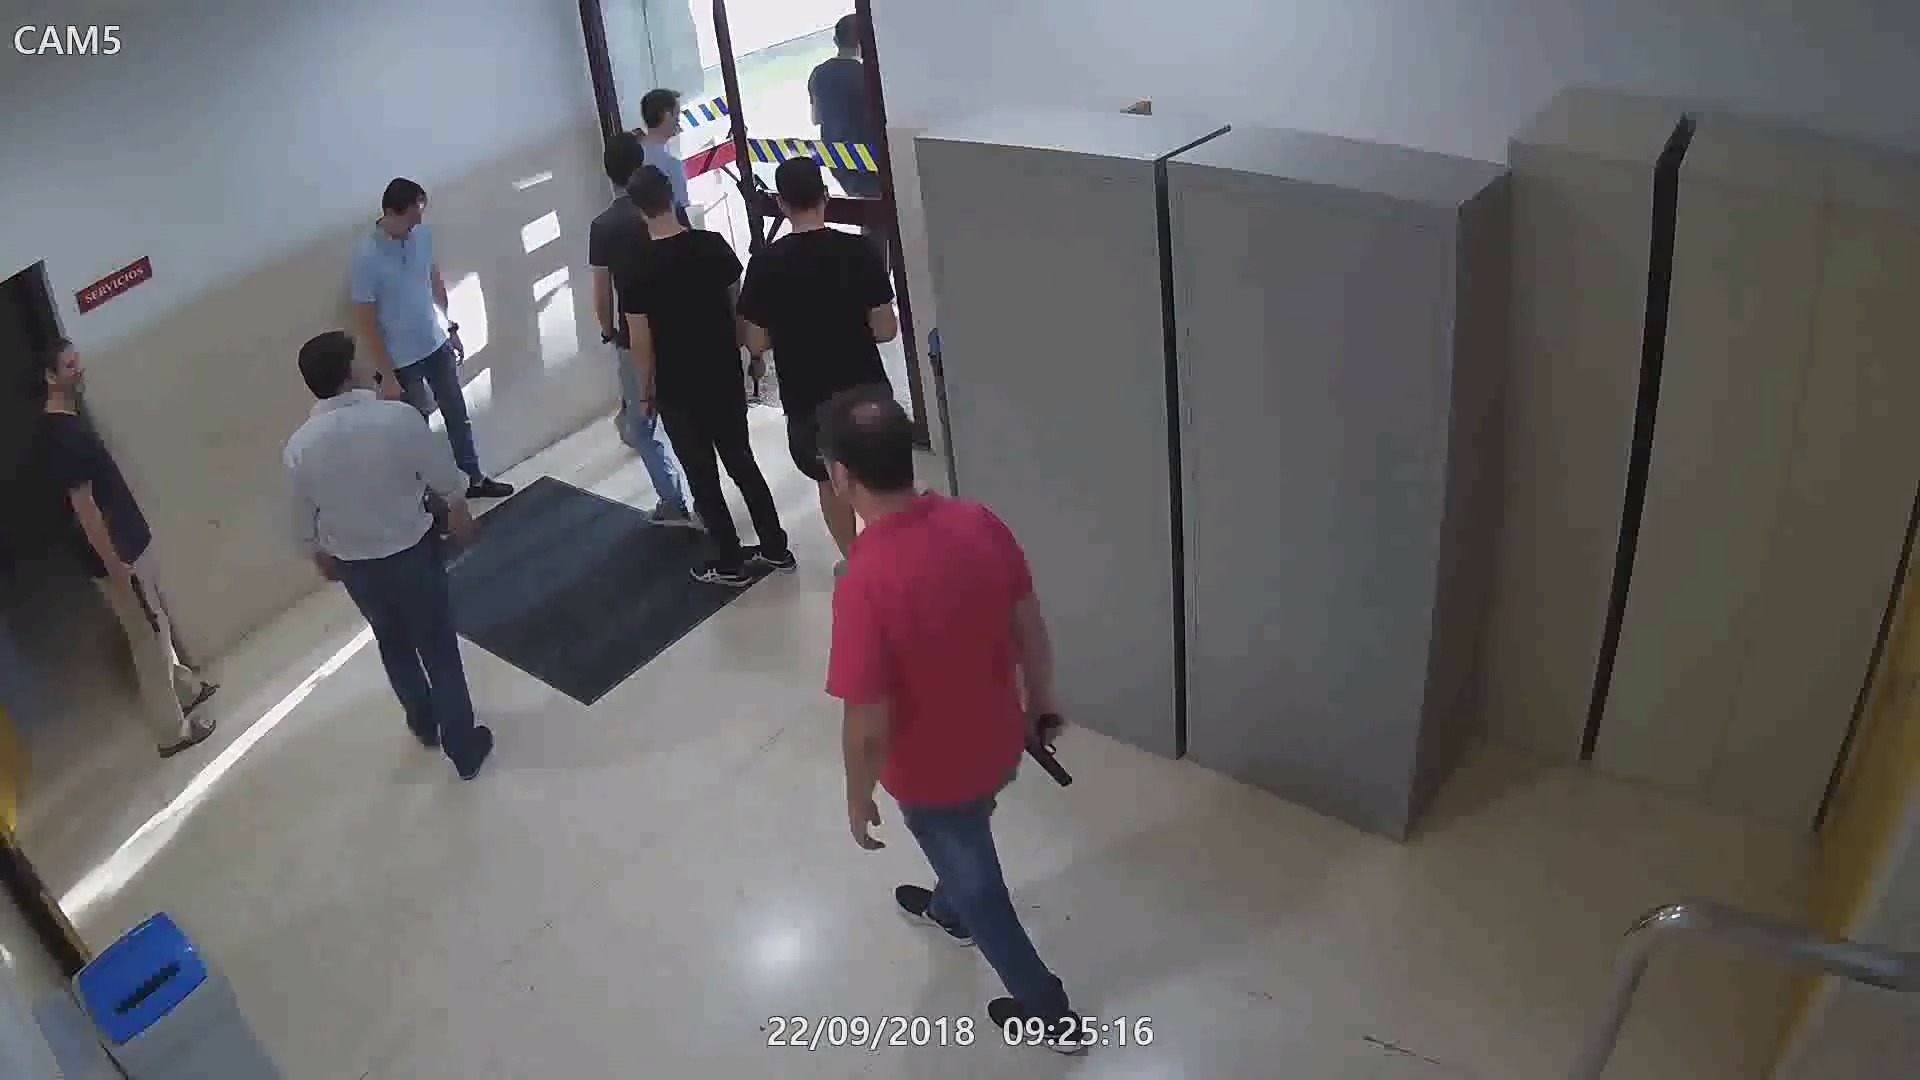Handgun: (1018, 705, 1076, 791), (421, 508, 448, 564), (742, 351, 773, 400)
Short_rifle: (111, 559, 165, 637)
